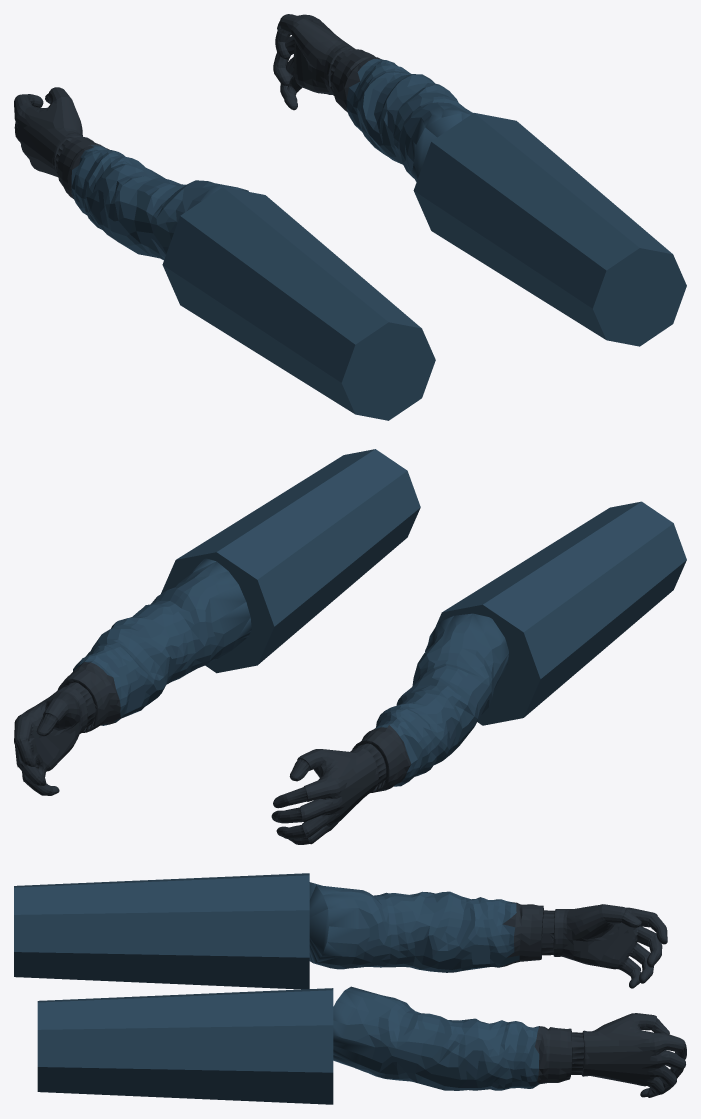
Rendered from baked-throwable-arms.glb.
The picture shows the model from 3 angles, top to bottom: view 1: azimuth 30°, elevation 25°; view 2: azimuth 150°, elevation 25°; view 3: azimuth 270°, elevation 25°; orthographic projection. The views are drawn at different scales.
Visible parts, largest first — view 1: RightSleeveExtension, LeftSleeveExtension, RightArmMesh, LeftArmMesh; view 2: LeftSleeveExtension, RightSleeveExtension, RightArmMesh, LeftArmMesh; view 3: RightSleeveExtension, LeftSleeveExtension, LeftArmMesh, RightArmMesh.
Part boxes in pixels (bbox=[...]): RightSleeveExtension: bbox=[413, 113, 686, 346]; LeftSleeveExtension: bbox=[162, 187, 435, 420]; RightArmMesh: bbox=[273, 14, 472, 181]; LeftArmMesh: bbox=[14, 87, 248, 260]; LeftSleeveExtension: bbox=[425, 501, 686, 725]; RightSleeveExtension: bbox=[161, 449, 420, 673]; RightArmMesh: bbox=[14, 558, 251, 795]; LeftArmMesh: bbox=[271, 613, 508, 844]; RightSleeveExtension: bbox=[37, 988, 333, 1104]; LeftSleeveExtension: bbox=[14, 873, 309, 989]; LeftArmMesh: bbox=[309, 882, 667, 988]; RightArmMesh: bbox=[333, 986, 686, 1097].
Size of the model in its own units: 0.67 by 0.21 by 1.14.
